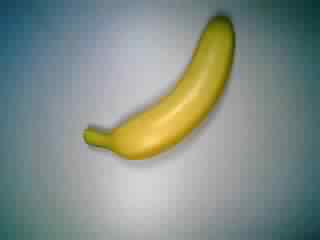banana: (80, 13, 242, 163)
